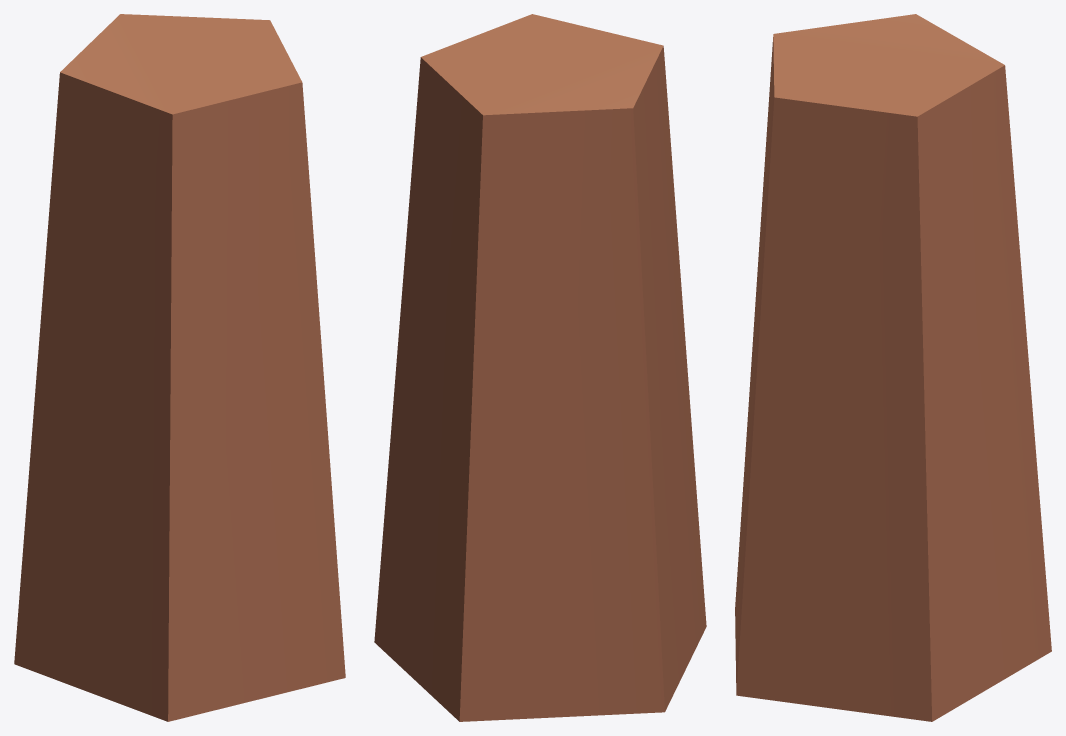
The model's file is d_kaykit_souche_ronde.glb.
3 renders of one model, left to right at view 1: azimuth 30°, elevation 25°; view 2: azimuth 150°, elevation 25°; view 3: azimuth 270°, elevation 25°, orthographic.
Parts seen in each view (by area): view 1: d_kaykit_souche_ronde; view 2: d_kaykit_souche_ronde; view 3: d_kaykit_souche_ronde.
Part boxes in pixels (bbox=[...]): d_kaykit_souche_ronde: bbox=[14, 14, 345, 721]; d_kaykit_souche_ronde: bbox=[374, 14, 706, 721]; d_kaykit_souche_ronde: bbox=[735, 14, 1051, 721].
Size of the model in its own units: 0.1697 by 0.3302 by 0.1617.
1 material, 1 textured.
